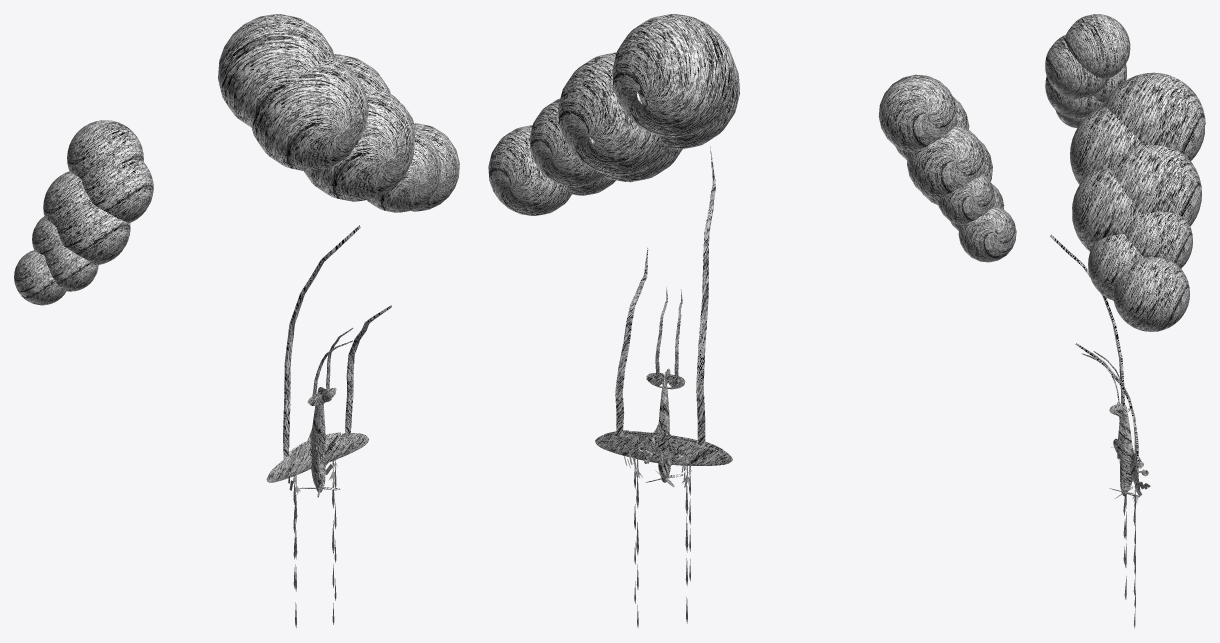
The model's file is supermarine-spitfire.glb.
3 renders of one model, left to right at view 1: azimuth 30°, elevation 25°; view 2: azimuth 150°, elevation 25°; view 3: azimuth 270°, elevation 25°, orthographic. The views are drawn at different scales.
Visible parts, largest first — view 1: mesh_2, mesh_3, mesh_4, mesh_0; view 2: mesh_2, mesh_3, mesh_4, mesh_0; view 3: mesh_2, mesh_3, mesh_4, mesh_0.
Boxes of the visible parts, bbox=[...] form: mesh_2: bbox=[218, 14, 459, 628]; mesh_3: bbox=[14, 103, 441, 305]; mesh_4: bbox=[32, 120, 143, 291]; mesh_0: bbox=[266, 387, 368, 497]; mesh_2: bbox=[488, 14, 739, 627]; mesh_3: bbox=[529, 97, 1016, 262]; mesh_4: bbox=[878, 74, 1004, 230]; mesh_0: bbox=[595, 368, 732, 486]; mesh_2: bbox=[1050, 72, 1205, 628]; mesh_3: bbox=[1045, 35, 1192, 300]; mesh_4: bbox=[1055, 14, 1130, 128]; mesh_0: bbox=[1109, 402, 1148, 498].
Size of the model in its own units: 9.03 by 11.2 by 3.06.
Materials: 1 (1 with a texture image).
